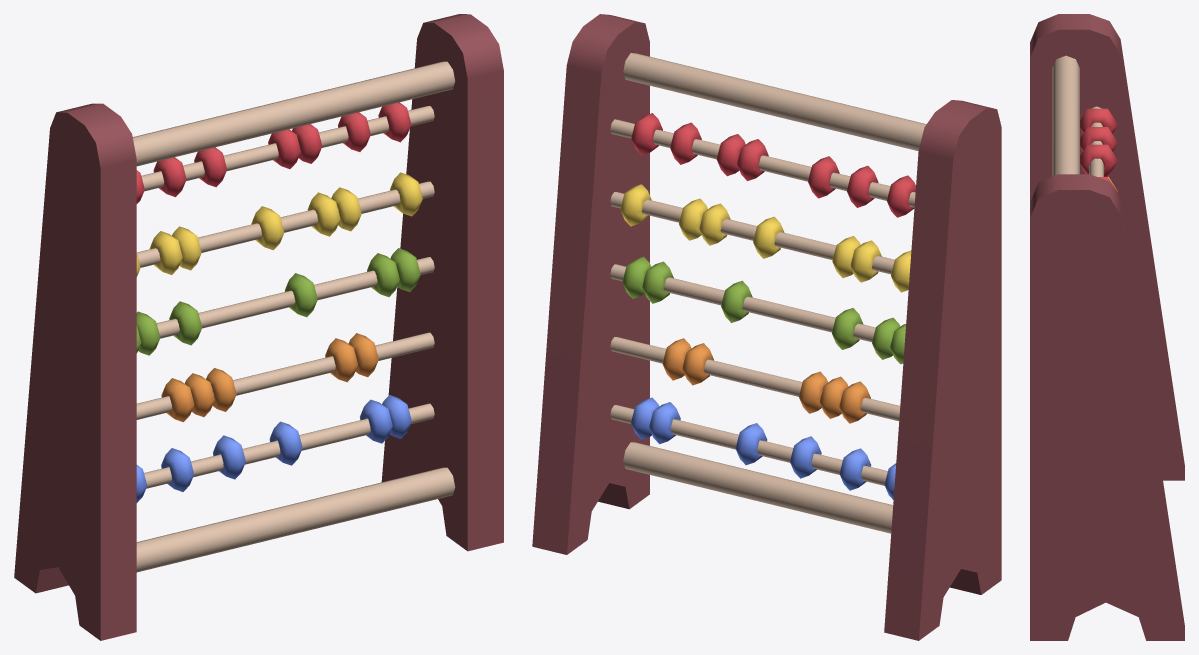
File: SM_Standing_Abacus_02.fbx
3 renders of one model, left to right at view 1: azimuth 30°, elevation 25°; view 2: azimuth 150°, elevation 25°; view 3: azimuth 270°, elevation 25°, orthographic. The views are drawn at different scales.
Visible parts, largest first — view 1: SM_Standing_Abacus_02; view 2: SM_Standing_Abacus_02; view 3: SM_Standing_Abacus_02.
Part boxes in pixels (x1=…): SM_Standing_Abacus_02: x1=14, y1=14, x2=503, y2=640; SM_Standing_Abacus_02: x1=532, y1=14, x2=1001, y2=640; SM_Standing_Abacus_02: x1=1030, y1=14, x2=1184, y2=640.
Size of the model in its own units: 69.5 by 83 by 25.81.
